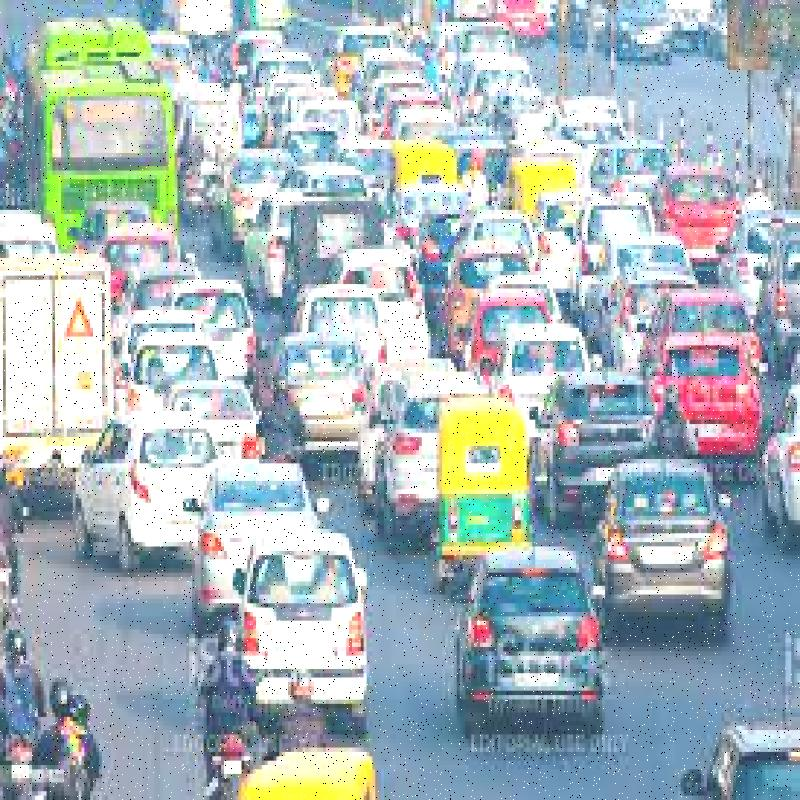auto: (431, 389, 538, 570), (388, 128, 462, 200)
car: (456, 543, 610, 730), (68, 387, 214, 577), (241, 518, 369, 732), (596, 462, 742, 634), (203, 453, 314, 608), (539, 371, 648, 520), (663, 322, 765, 461), (499, 320, 596, 440), (287, 327, 369, 465), (383, 386, 450, 535)
